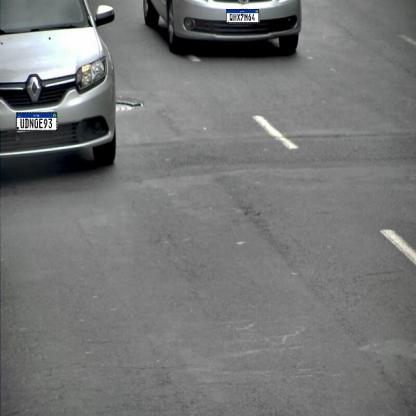PlacaM: (16, 112, 57, 131), (226, 9, 259, 23)
